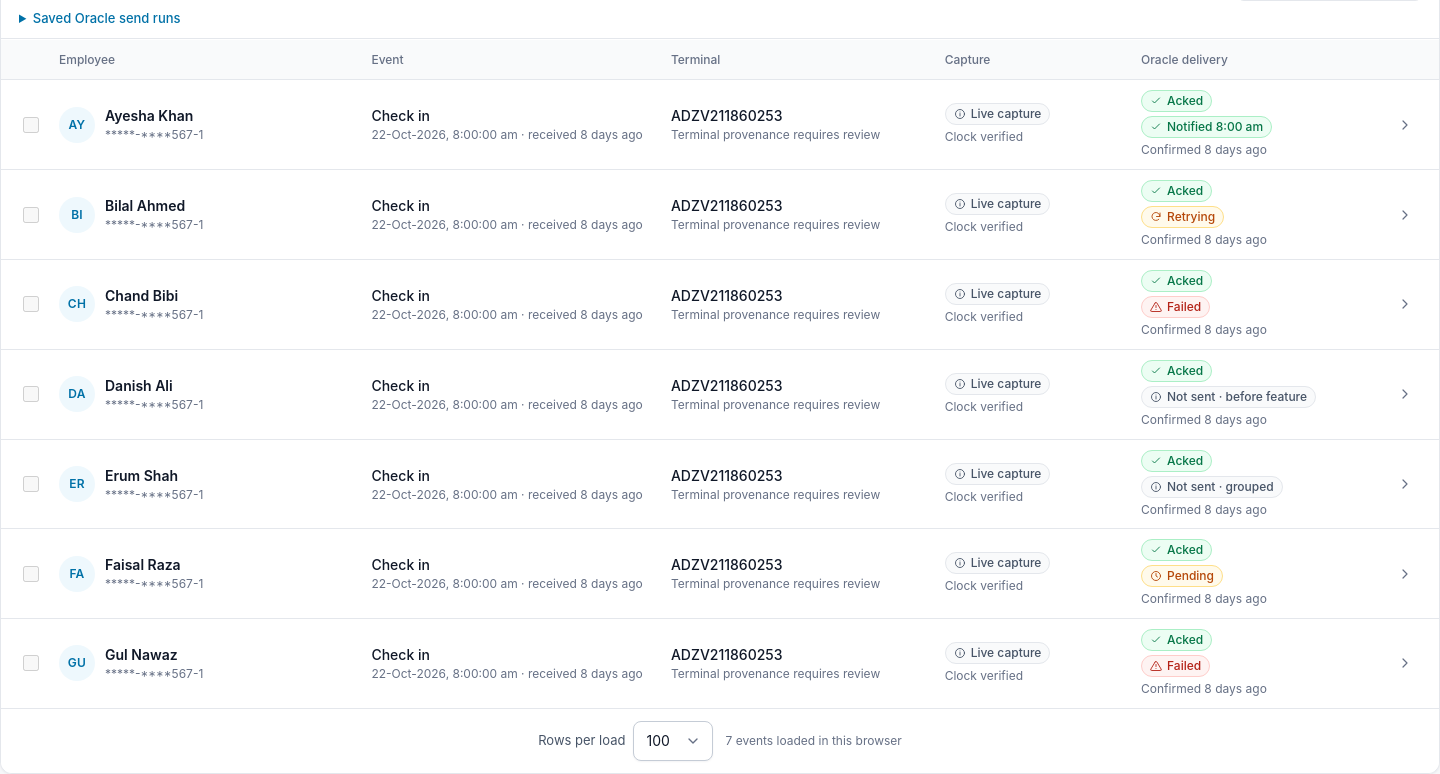
it: Phone notification pills on the Attendance page › warns that a retry after an unclear answer can send the message twice
(page scrolled)
What coordinates should you click on to do the following:
click the button with aria-label "Phone notification: Failed"
I would click on:
 (1176, 666)
Its box is [1141,655,1210,677].
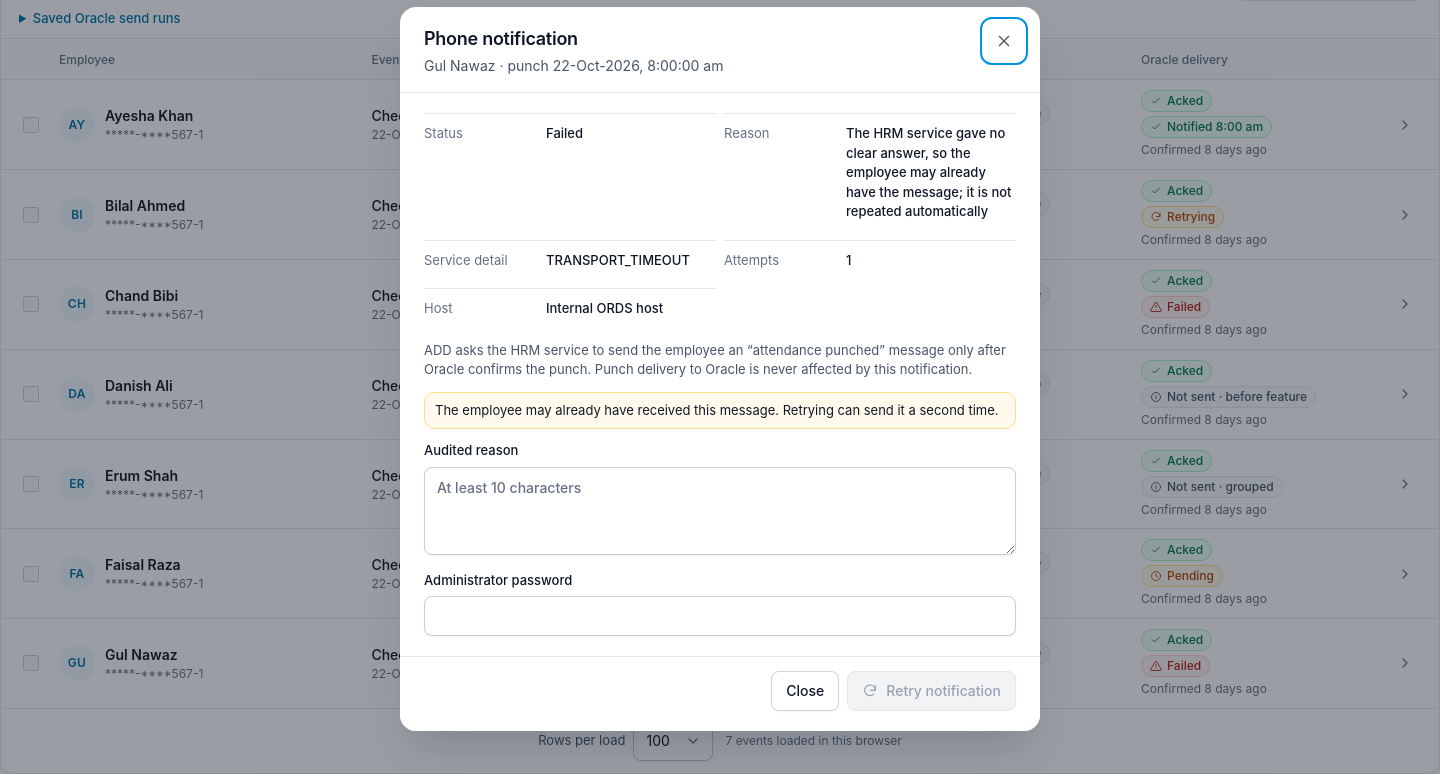
Check: the dialog "Phone notification" shows "may already have the message; it is not repeated automatically", box [846,125,1012,219]
Check: the text "Retrying can send it a second time" is shown, box [435,402,999,418]
Check: the button "Retry notification" is shown, box [847,671,1016,711]
